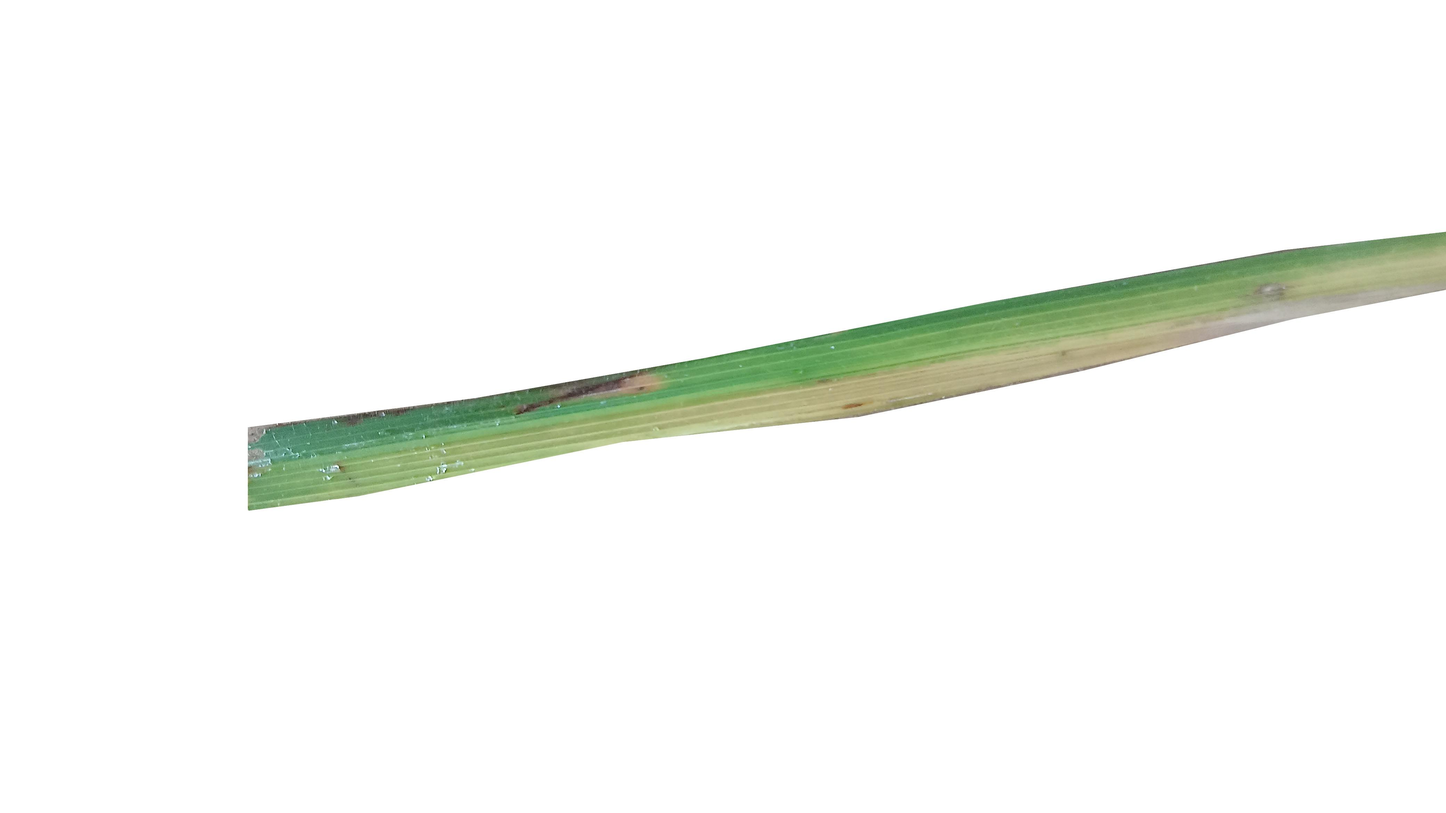Rice blast: (483, 367, 707, 417)
